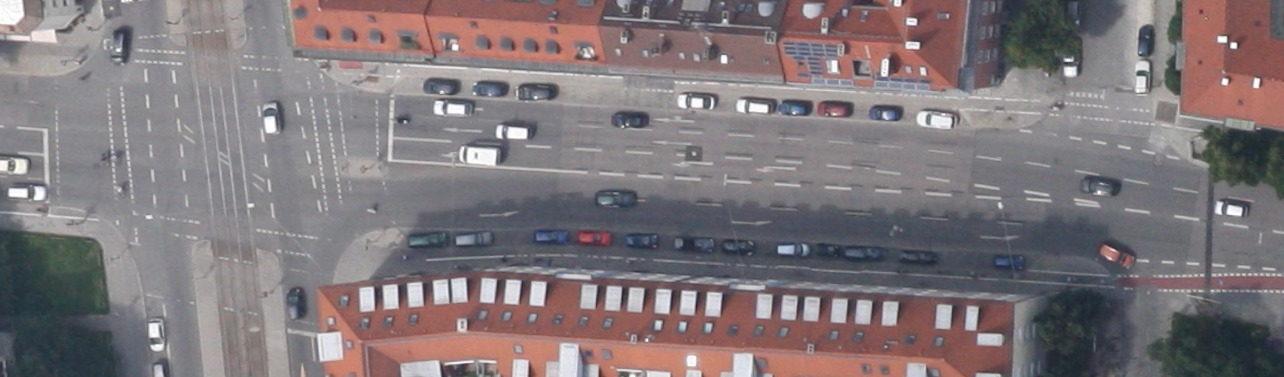car: (1096, 240, 1136, 270), (915, 109, 958, 129), (1080, 175, 1119, 196), (595, 189, 636, 207), (673, 234, 713, 252), (517, 82, 556, 100), (843, 244, 886, 260), (422, 76, 460, 94), (899, 248, 937, 266), (109, 30, 128, 65), (7, 184, 46, 201), (261, 101, 281, 134), (432, 100, 472, 116), (676, 93, 716, 109), (1213, 199, 1246, 218), (408, 232, 447, 248), (454, 231, 493, 247), (817, 100, 853, 117), (721, 238, 755, 256), (494, 123, 532, 139), (868, 103, 903, 120), (775, 241, 810, 258), (147, 317, 164, 351), (1134, 60, 1151, 94), (287, 286, 305, 318), (612, 111, 648, 127), (735, 98, 773, 113), (1063, 38, 1078, 76), (472, 80, 505, 97), (778, 98, 811, 115), (993, 252, 1024, 270), (625, 232, 658, 248), (1137, 24, 1154, 55), (577, 230, 610, 245), (534, 229, 568, 243), (815, 242, 839, 258)
